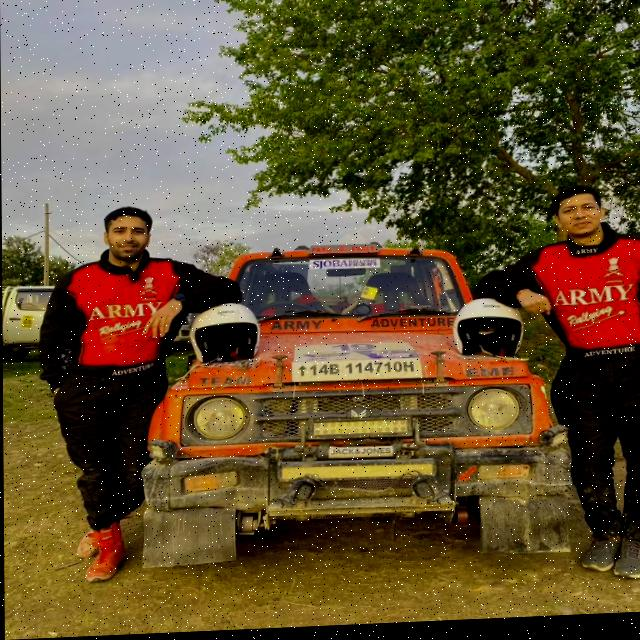plate: (290, 355, 427, 390)
